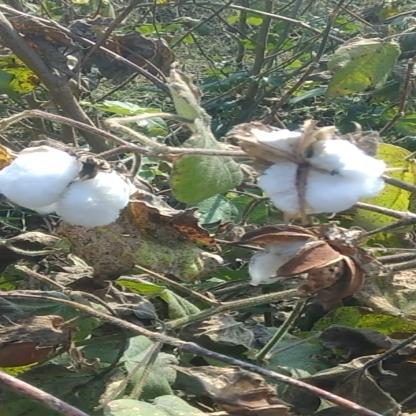cotton_ready: (224, 119, 396, 225), (3, 138, 139, 232)
